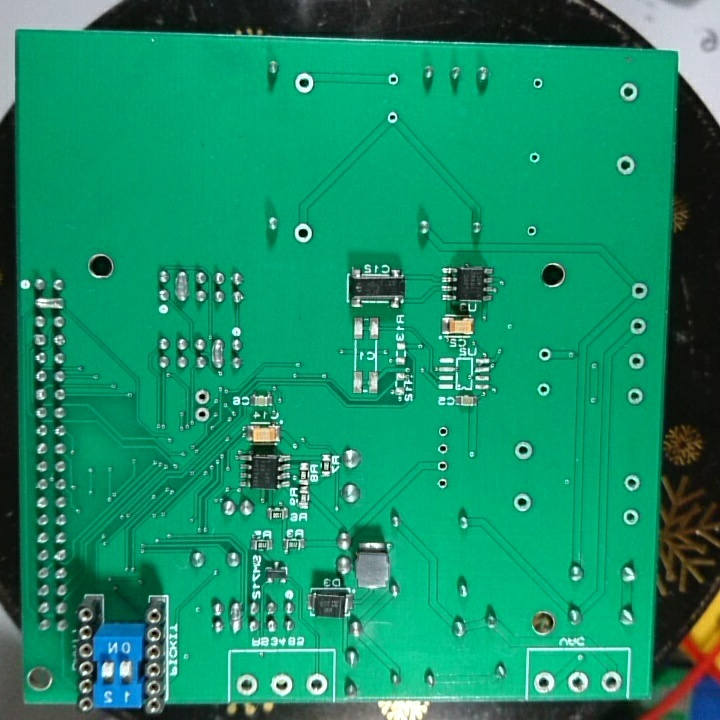F: (598, 666, 626, 697), (267, 669, 296, 698), (532, 668, 559, 696), (302, 670, 330, 697), (235, 670, 261, 698), (565, 669, 592, 695), (614, 152, 640, 178), (617, 80, 642, 107), (293, 69, 316, 98), (629, 278, 652, 306), (293, 221, 316, 246), (510, 490, 533, 515), (626, 385, 646, 410), (513, 439, 535, 461), (627, 315, 648, 338), (620, 507, 641, 530), (627, 349, 647, 373), (622, 472, 643, 494), (193, 404, 213, 426), (533, 380, 552, 403), (535, 345, 553, 366), (193, 386, 212, 405), (385, 106, 403, 126), (385, 69, 401, 89), (527, 149, 543, 169), (530, 73, 546, 92), (524, 222, 539, 240), (435, 458, 450, 475), (433, 475, 448, 492), (436, 423, 450, 440), (437, 441, 450, 458)
P: (30, 295, 70, 314), (227, 597, 243, 638), (209, 337, 227, 373), (173, 270, 189, 304)
